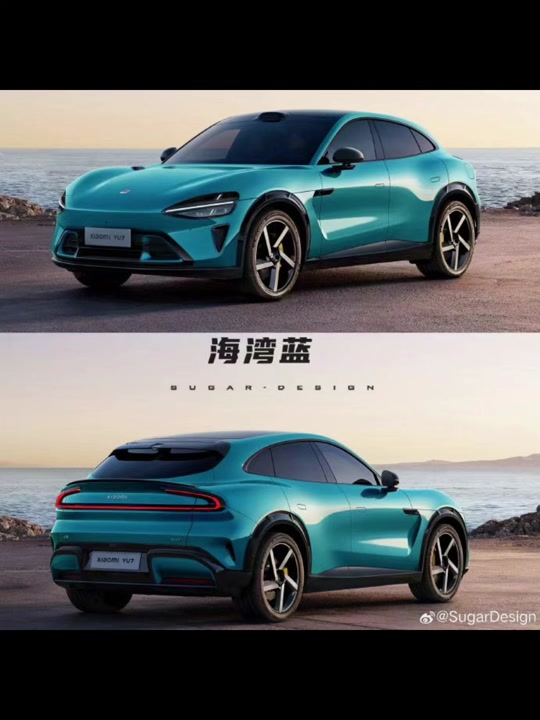other: (42, 108, 485, 306), (50, 420, 473, 616)
